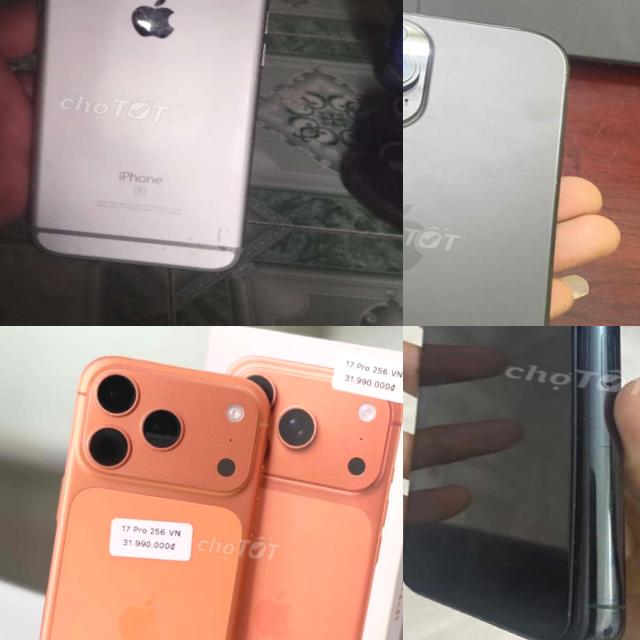gen_11: (403, 326, 640, 640)
gen_14: (403, 0, 619, 326)
gen_17: (6, 336, 291, 640)
gen_6: (0, 0, 310, 299)
